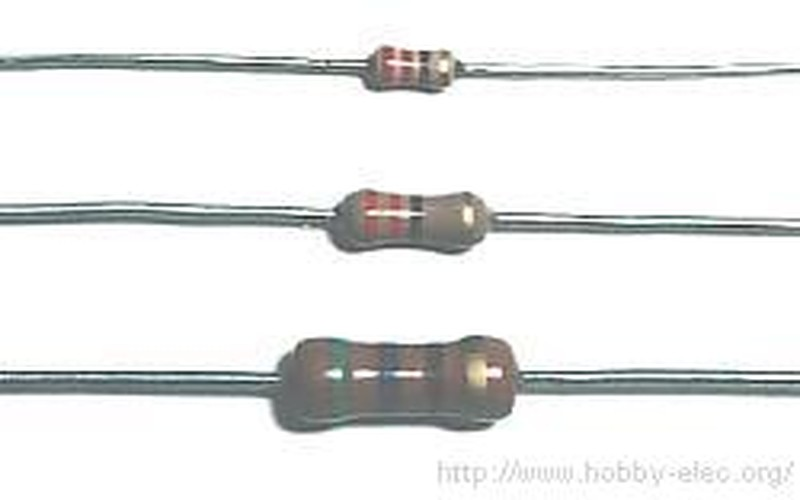Resistor: (264, 317, 525, 447), (302, 159, 500, 268), (332, 7, 478, 104)
